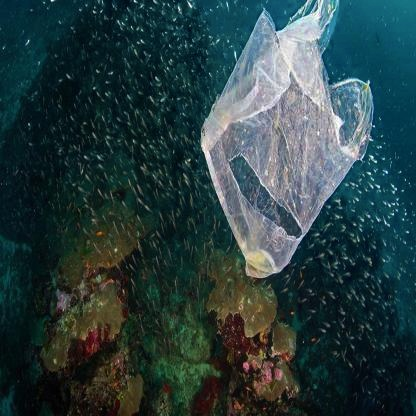pbag: (197, 1, 382, 286)
